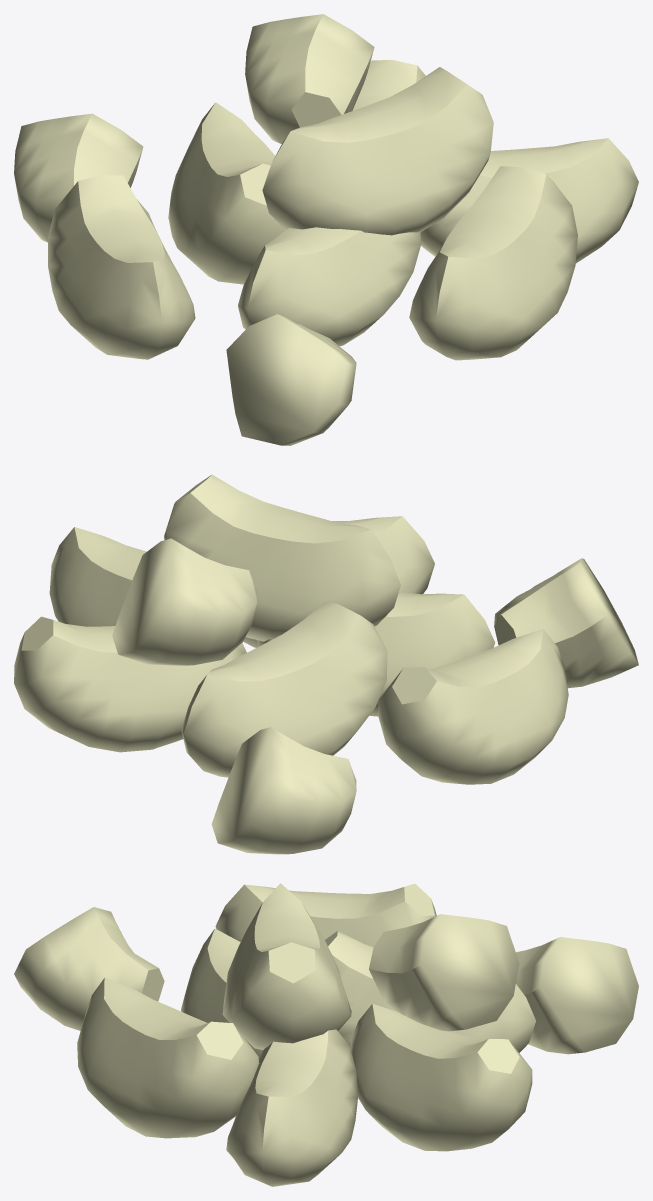
File: SlicedGarlic.fbx
3 views of the same model, one above another, from view 1: azimuth 30°, elevation 25°; view 2: azimuth 150°, elevation 25°; view 3: azimuth 270°, elevation 25° (orthographic). The views are drawn at different scales.
Visible parts, largest first — view 1: clove.005; view 2: clove.005; view 3: clove.005.
Part boxes in pixels (x1,y1,x2,y2): clove.005: [14, 14, 638, 445]; clove.005: [14, 474, 638, 854]; clove.005: [14, 883, 638, 1186].
Size of the model in its own units: 41.03 by 16.79 by 44.77.
